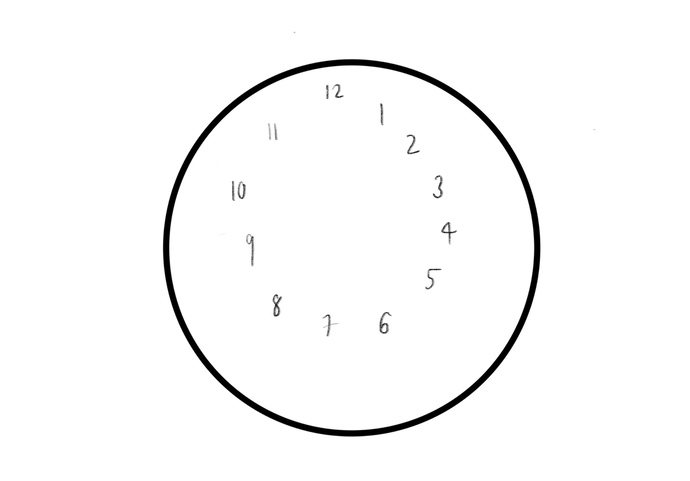eight: (265, 287, 284, 319)
eleven: (263, 117, 283, 142)
five: (424, 263, 443, 294)
four: (438, 216, 458, 243)
nine: (238, 230, 259, 267)
one: (375, 100, 389, 125)
seven: (318, 307, 337, 343)
six: (372, 310, 397, 335)
ten: (228, 175, 247, 206)
three: (429, 170, 449, 204)
twelve: (323, 79, 346, 103)
two: (403, 130, 419, 157)
